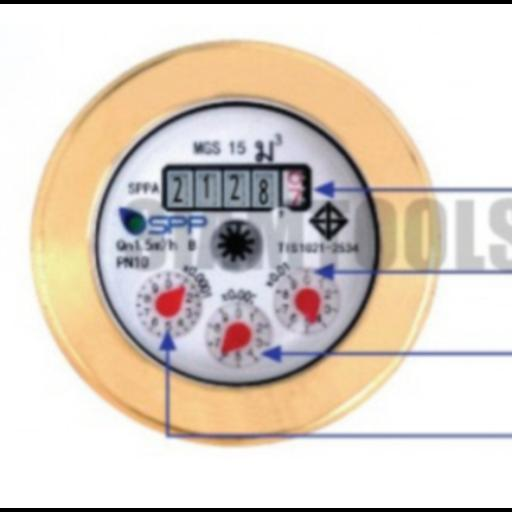1: (199, 174, 216, 206)
2: (170, 174, 187, 207), (229, 173, 244, 206)
6: (285, 170, 304, 207)
8: (256, 174, 273, 206)
border_water_meter_number: (161, 163, 313, 213)
